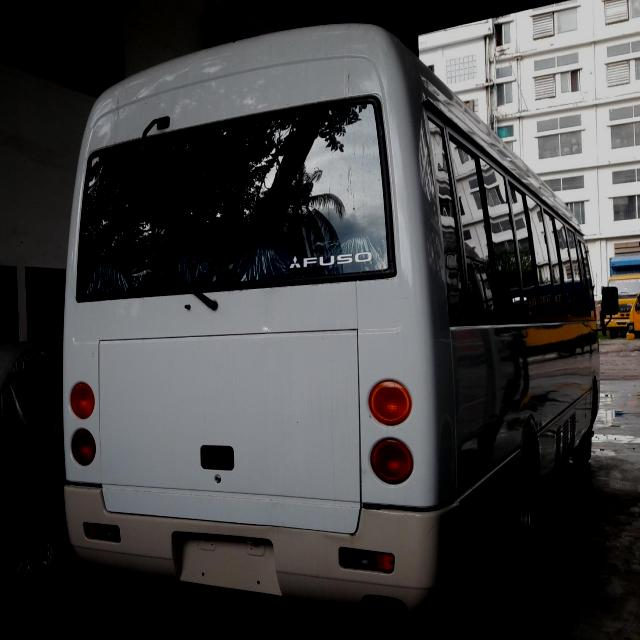bus: (31, 15, 640, 640)
